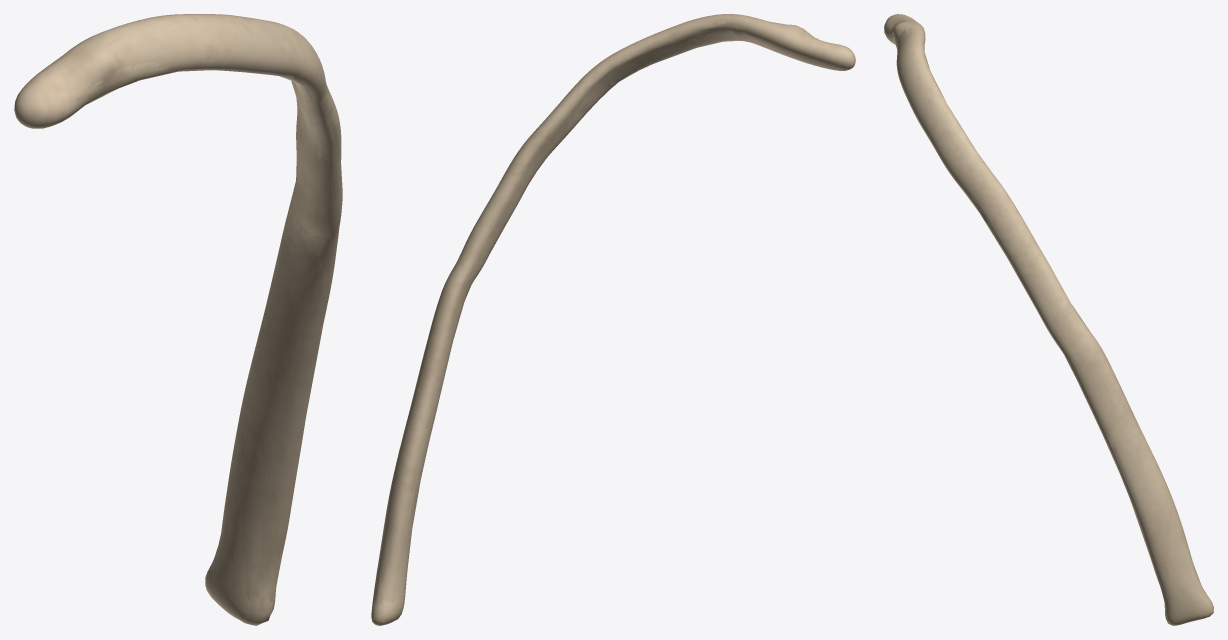
The model's file is Rib L09.fbx.
3 renders of one model, left to right at view 1: azimuth 30°, elevation 25°; view 2: azimuth 150°, elevation 25°; view 3: azimuth 270°, elevation 25°, orthographic. The views are drawn at different scales.
Visible parts, largest first — view 1: Rib L09, Rib L09 high, Rib L09 low; view 2: Rib L09 high, Rib L09, Rib L09 low; view 3: Rib L09 high, Rib L09, Rib L09 low.
Part boxes in pixels (box(x1,y1,x2,y2)): Rib L09: box(14, 14, 342, 625); Rib L09 high: box(15, 14, 342, 623); Rib L09 low: box(53, 34, 341, 599); Rib L09 high: box(371, 14, 855, 625); Rib L09: box(371, 14, 854, 625); Rib L09 low: box(374, 21, 789, 605); Rib L09 high: box(885, 14, 1211, 625); Rib L09: box(884, 14, 1213, 625); Rib L09 low: box(888, 21, 1207, 609).
Size of the model in its own units: 15.36 by 24.98 by 15.11.
Materials: 1 (1 with a texture image).
